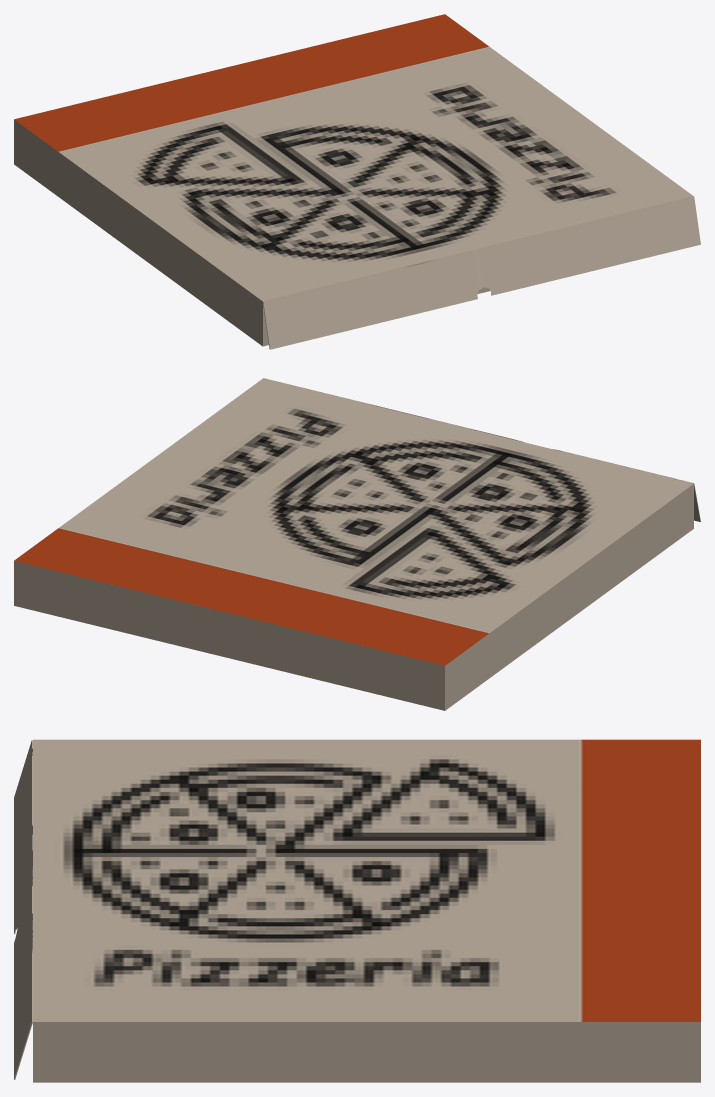
The model's file is pizza.fbx.
The picture shows the model from 3 angles, top to bottom: view 1: azimuth 30°, elevation 25°; view 2: azimuth 150°, elevation 25°; view 3: azimuth 270°, elevation 25°; orthographic projection. The views are drawn at different scales.
Visible parts, largest first — view 1: pizza; view 2: pizza; view 3: pizza.
Boxes of the visible parts, left/top/right/bottom form: pizza: left=14, top=14, right=700, bottom=349; pizza: left=14, top=378, right=700, bottom=710; pizza: left=14, top=739, right=700, bottom=1082.
Size of the model in its own units: 40 by 4.02 by 41.14.
